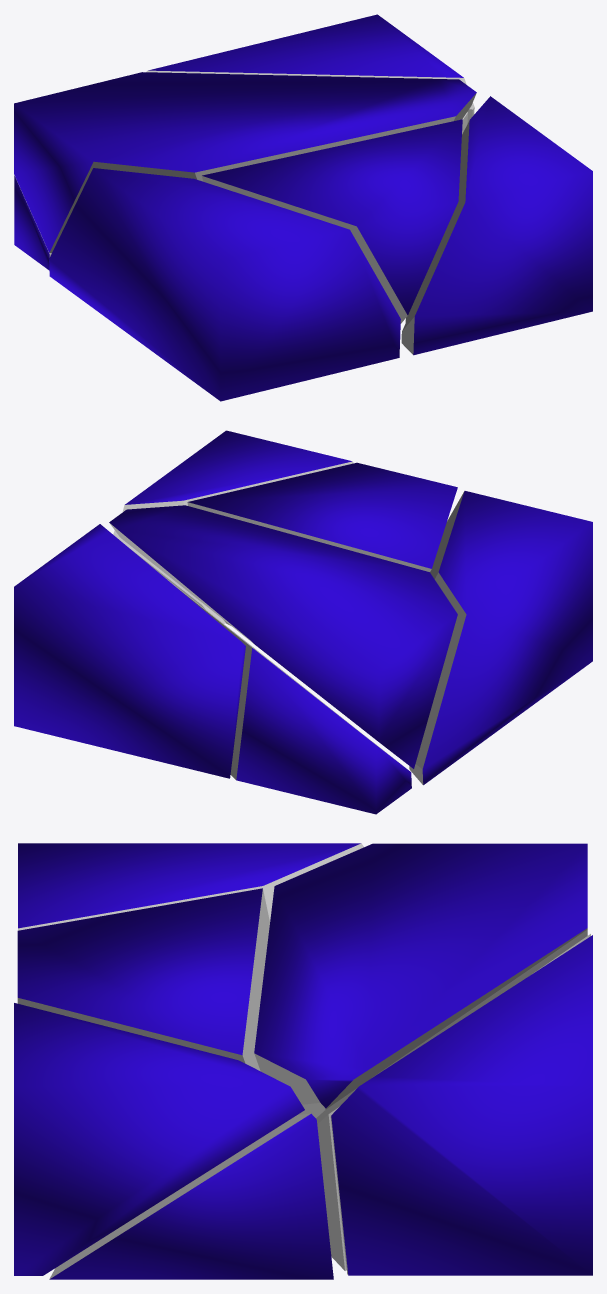
File: ceilingDecorFractured.fbx
3 renders of one model, top to bottom at view 1: azimuth 30°, elevation 25°; view 2: azimuth 150°, elevation 25°; view 3: azimuth 270°, elevation 25°, orthographic. The views are drawn at different scales.
Parts seen in each view (by area): view 1: ceilingDecor_shard.006, ceilingDecor_shard.001, ceilingDecor_shard.005, ceilingDecor_shard, ceilingDecor_shard.002, ceilingDecor_shard.004; view 2: ceilingDecor_shard.001, ceilingDecor_shard.002, ceilingDecor_shard.006, ceilingDecor_shard.004, ceilingDecor_shard, ceilingDecor_shard.005, ceilingDecor_shard.003; view 3: ceilingDecor_shard.002, ceilingDecor_shard.001, ceilingDecor_shard.005, ceilingDecor_shard, ceilingDecor_shard.003, ceilingDecor_shard.006, ceilingDecor_shard.004.
Part boxes in pixels (x1,y1,x2,y2): ceilingDecor_shard.006: (49, 168, 400, 401); ceilingDecor_shard.001: (14, 72, 476, 253); ceilingDecor_shard.005: (401, 96, 592, 355); ceilingDecor_shard: (201, 119, 462, 323); ceilingDecor_shard.002: (146, 14, 474, 123); ceilingDecor_shard.004: (14, 112, 467, 269); ceilingDecor_shard.001: (109, 505, 457, 768); ceilingDecor_shard.002: (14, 524, 245, 778); ceilingDecor_shard.006: (409, 491, 592, 785); ceilingDecor_shard.004: (168, 580, 411, 814); ceilingDecor_shard: (187, 462, 457, 625); ceilingDecor_shard.005: (122, 430, 353, 511); ceilingDecor_shard.003: (113, 530, 225, 623); ceilingDecor_shard.002: (330, 935, 592, 1275); ceilingDecor_shard.001: (254, 843, 587, 1123); ceilingDecor_shard.005: (14, 1003, 304, 1275); ceilingDecor_shard: (17, 888, 269, 1071); ceilingDecor_shard.003: (49, 1113, 333, 1279); ceilingDecor_shard.006: (18, 843, 363, 930); ceilingDecor_shard.004: (317, 934, 590, 1270).
Bounding box in the file's own units: 198 × 72.75 × 197.
